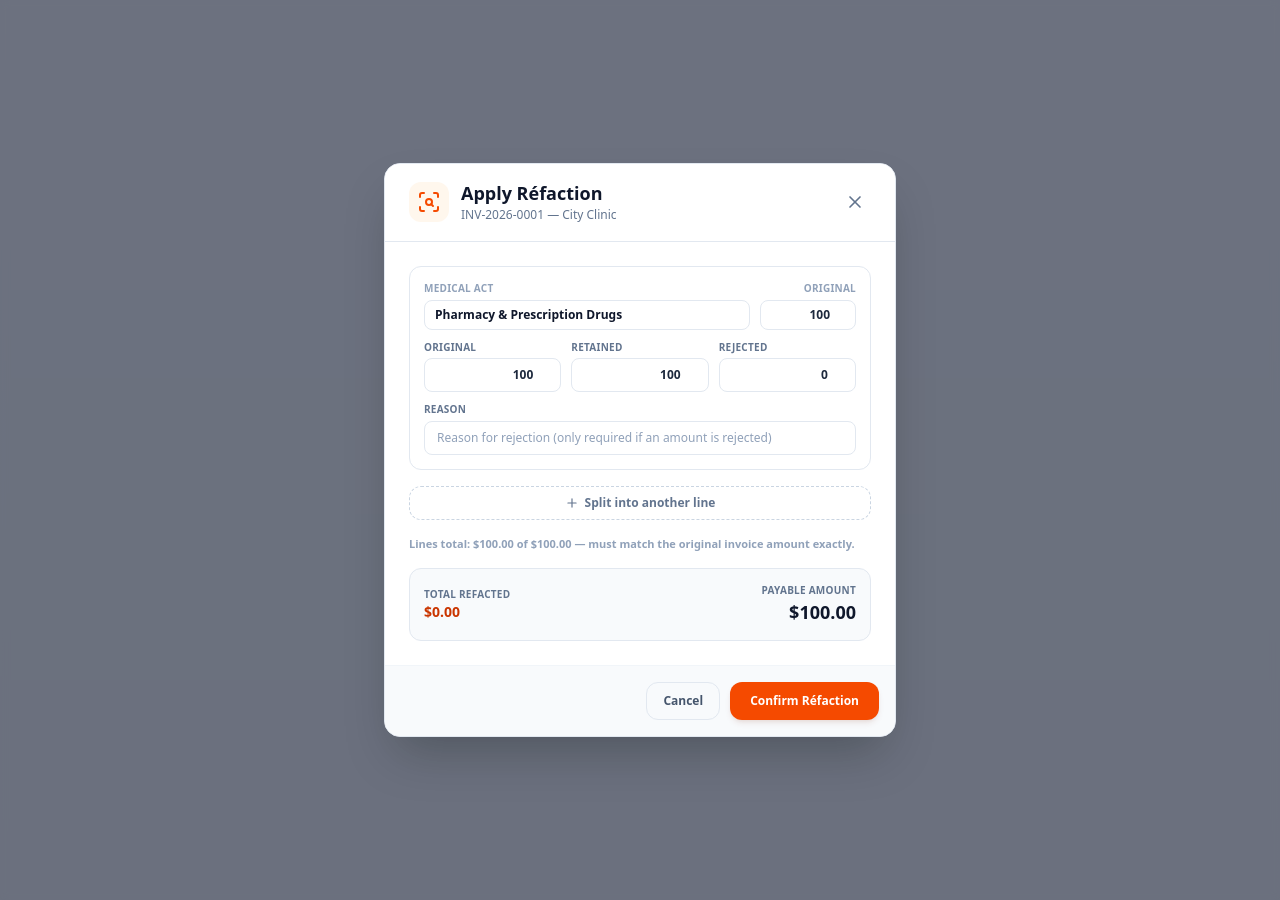
ApplyRefactionModal — react-hook-form + zod › n'enregistre pas la réfaction si aucune ligne n'a été réduite
Click the button "Confirm Réfaction": (805, 701) x1=730 y1=682 x2=879 y2=720
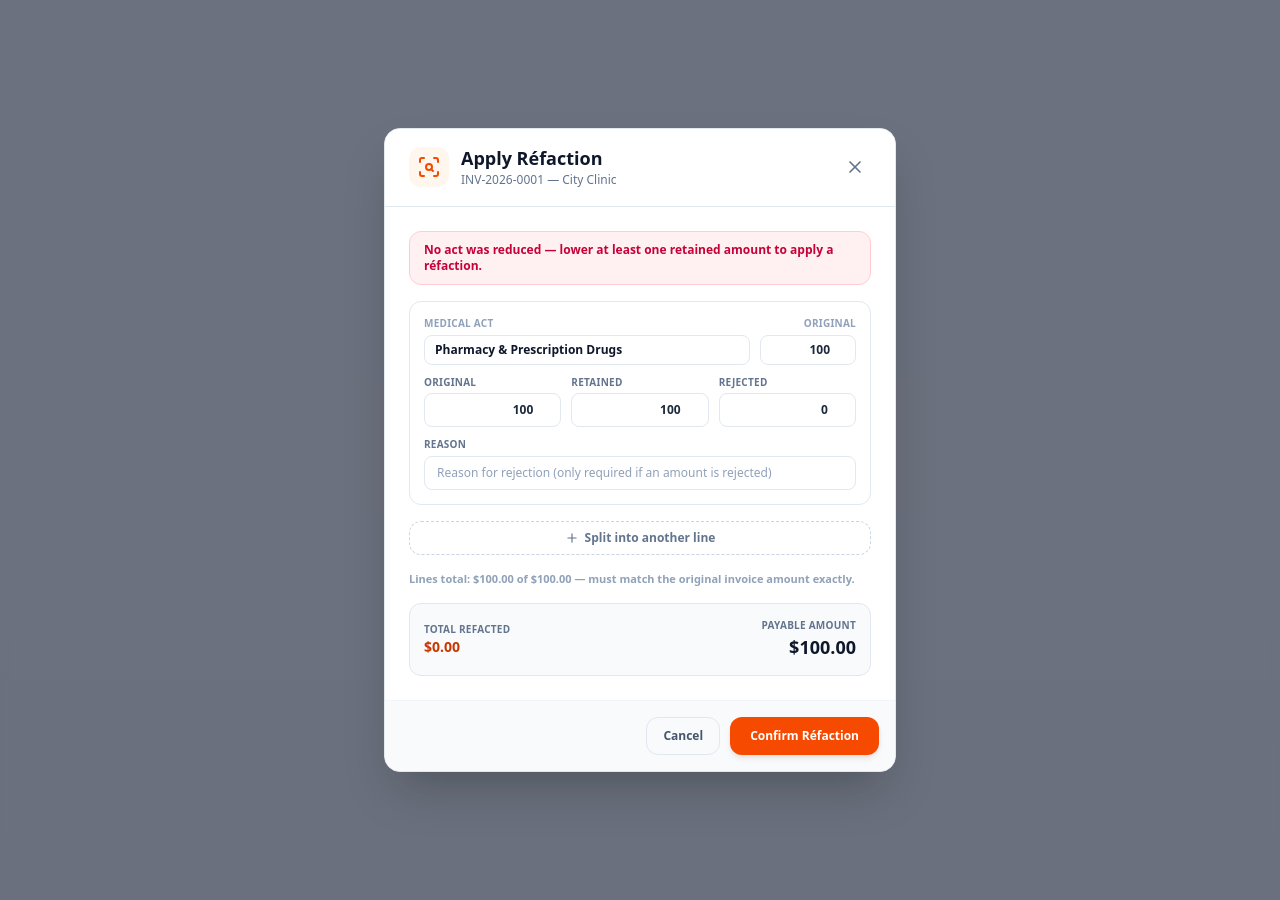
Check: the text "No act was reduced — lower at least one retained amount to apply a réfaction." is shown, box x1=409 y1=230 x2=871 y2=284
